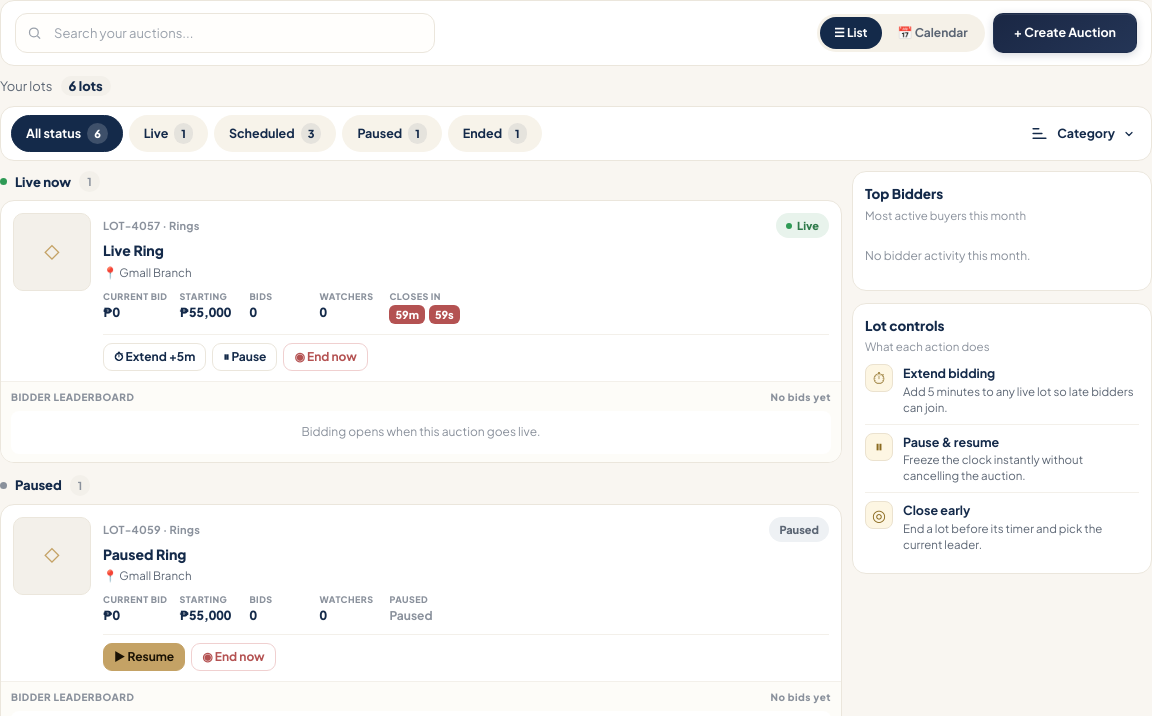
Scenario: Calendar toggle switches mode on the same page
This screenshot has width=1152, height=716.
Expected: the text "Upcoming timeline" is not shown
Click the button with aria-label "Calendar view". click: (933, 33)
box: [884, 17, 982, 49]
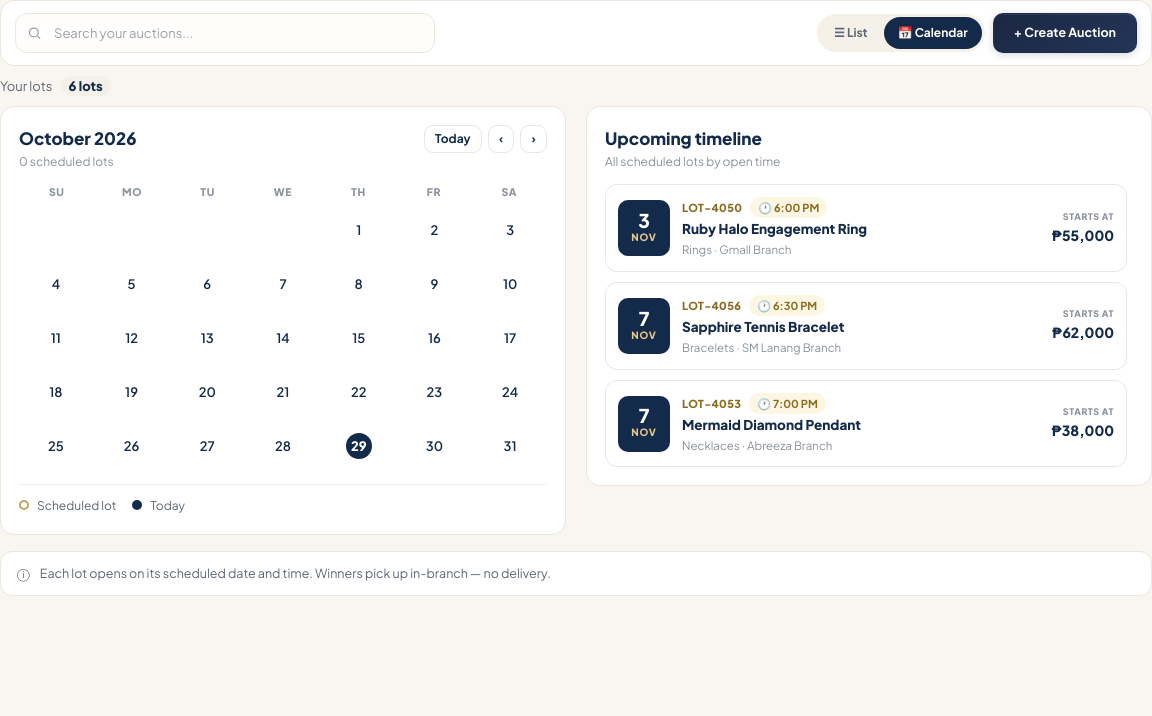
Result: the heading "Upcoming timeline" is shown at [605, 127, 762, 149]
Result: the text "Live now" is gone
Click the button "☰ List". click: (851, 33)
box: [820, 17, 882, 49]
(page scrolled)
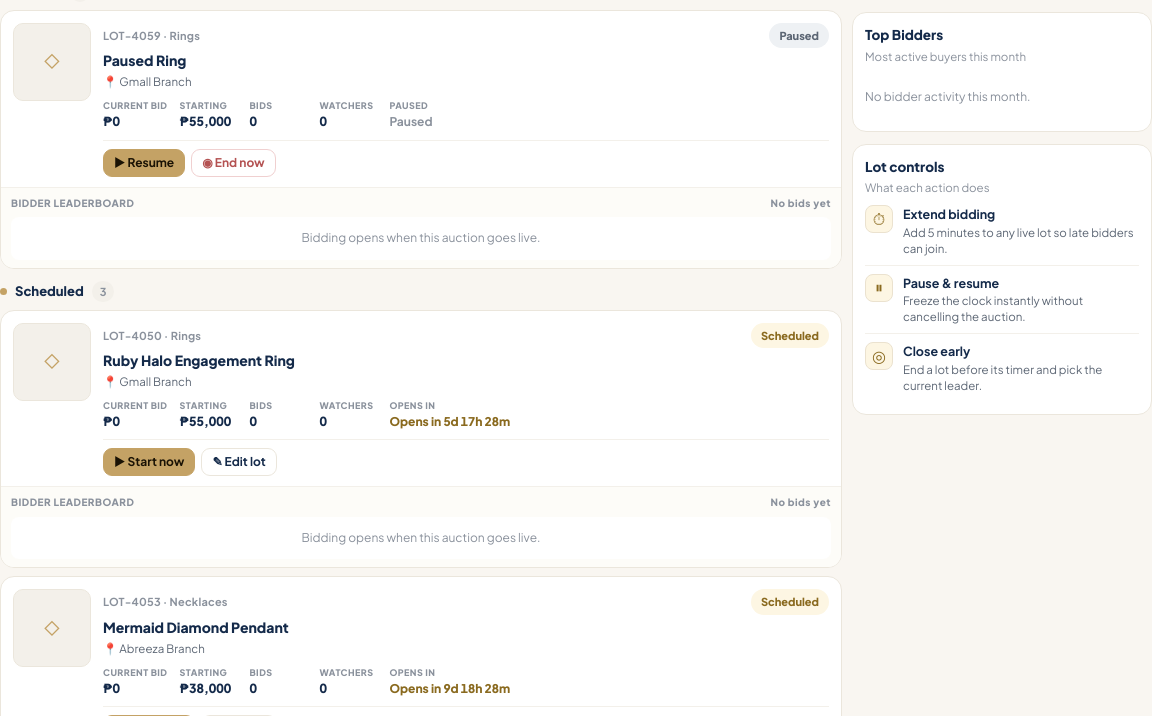
Expected: the text "Ruby Halo Engagement Ring" is shown, [103, 351, 295, 369]
Result: the heading "Upcoming timeline" is gone
